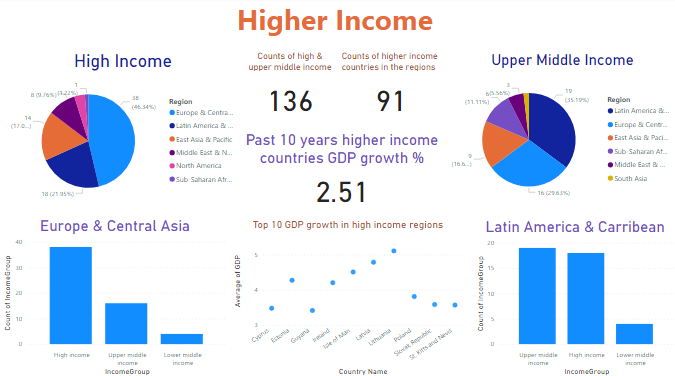

The page's visual inventory and layout, read from the dashboard file:
{"tool":"powerbi","page":{"name":"Higher Income","canvas":[1280,720],"ordinal":1},"visuals":[{"type":"textbox","box":[9.5,0,1247.9,130.5],"z":0},{"type":"pieChart","title":"High Income","fields":{"Category":["each country metadata.Region"],"Y":["CountNonNull(each country metadata.IncomeGroup)"]},"box":[9.5,102.1,446.2,302.5],"z":1000},{"type":"pieChart","title":"Upper Middle Income","fields":{"Category":["each country metadata.Region"],"Y":["CountNonNull(each country metadata.IncomeGroup)"]},"box":[847,102.1,433,302.5],"z":2000},{"type":"columnChart","title":"Europe & Central Asia","fields":{"Category":["each country metadata.IncomeGroup"],"Y":["CountNonNull(each country metadata.IncomeGroup)"]},"box":[0,416,434.9,304.4],"z":3000},{"type":"columnChart","title":"Latin America & Carribean","fields":{"Category":["each country metadata.IncomeGroup"],"Y":["CountNonNull(each country metadata.IncomeGroup)"]},"box":[894.3,417.8,385.7,302.5],"z":4000},{"type":"card","title":"Past 10 years higher income countries GDP growth % ","fields":{"Values":["Avg(GDP (2).GDP)"]},"box":[455.7,253.4,381.9,151.3],"z":5000},{"type":"scatterChart","title":"Top 10 GDP growth in high income regions","fields":{"Y":["Avg(GDP (2).GDP)"],"X":["GDP (2).Country Name"]},"box":[434.9,417.8,446.2,302.5],"z":6000},{"type":"card","title":"Counts of high & upper middle income","fields":{"Values":["CountNonNull(Raw_GDP.Country Name)"]},"box":[463.2,102.1,170.2,138],"z":7000},{"type":"card","title":"Counts of higher income countries in the regions","fields":{"Values":["CountNonNull(Raw_GDP.Country Name)"]},"box":[640.9,102.1,196.6,138],"z":8000}]}

Visuals, with their boxes in screenshot pixels (x1, y1, x2, y2), scaled from the page's 1280x720 canvas onto the 675x376 screenshot:
textbox: 5,0,663,68
"High Income" pieChart: 5,53,240,211
"Upper Middle Income" pieChart: 447,53,674,211
"Europe & Central Asia" columnChart: 0,217,229,375
"Latin America & Carribean" columnChart: 472,218,674,375
"Past 10 years higher income countries GDP growth % " card: 240,132,442,211
"Top 10 GDP growth in high income regions" scatterChart: 229,218,465,375
"Counts of high & upper middle income" card: 244,53,334,125
"Counts of higher income countries in the regions" card: 338,53,442,125
